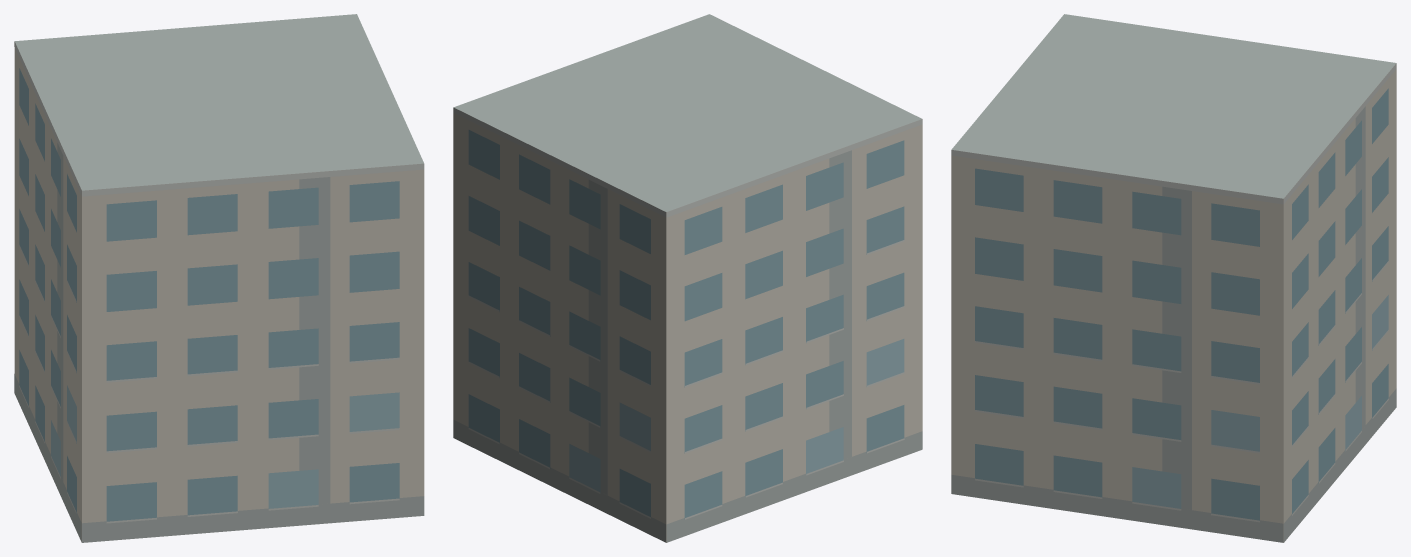
Rendered from survey-upis-33036287.glb.
3 renders of one model, left to right at view 1: azimuth 30°, elevation 25°; view 2: azimuth 150°, elevation 25°; view 3: azimuth 270°, elevation 25°, orthographic. The views are drawn at different scales.
Visible parts, largest first — view 1: survey-upis-33036287.tmp; view 2: survey-upis-33036287.tmp; view 3: survey-upis-33036287.tmp.
Part boxes in pixels (<box>): survey-upis-33036287.tmp: <box>14,14,424,542</box>; survey-upis-33036287.tmp: <box>453,14,922,542</box>; survey-upis-33036287.tmp: <box>951,14,1396,542</box>.
Size of the model in its own units: 16.7 by 14.5 by 17.01.
